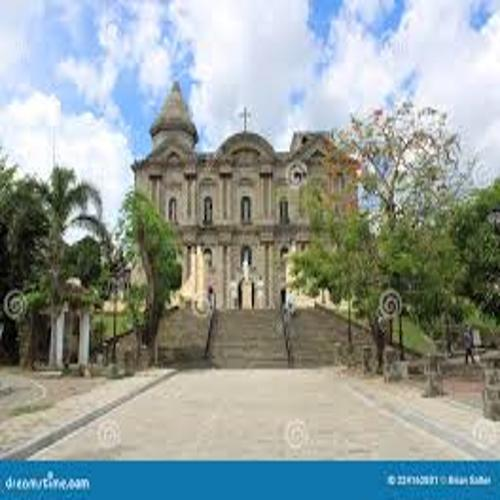Taal Basilica Church: (123, 70, 380, 316)
